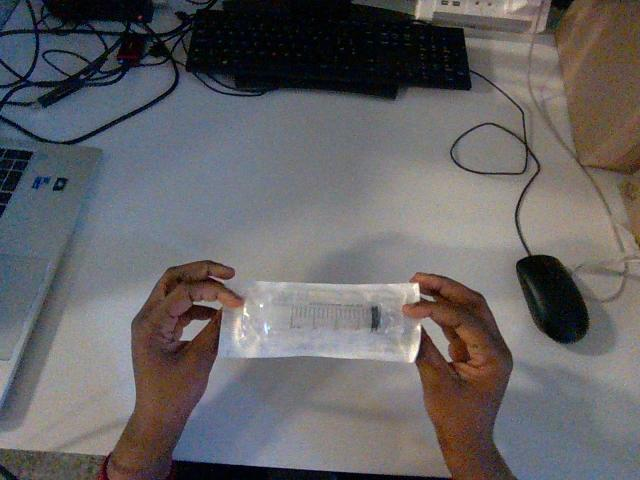syringe: (219, 282, 420, 361)
